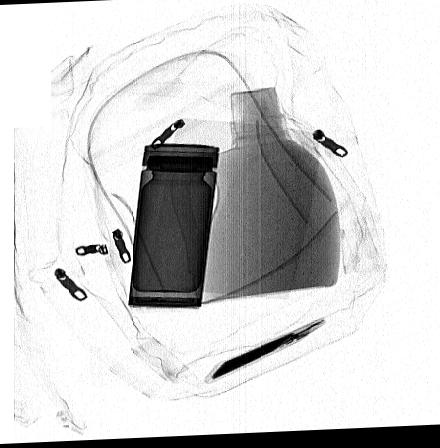Powerbank: (204, 318, 328, 384)
